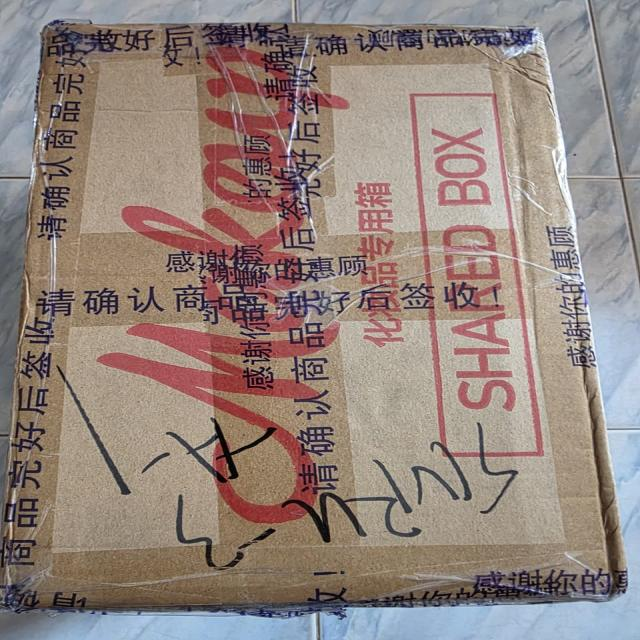carton_box: (16, 3, 640, 624)
package_damage: (583, 378, 636, 601)
